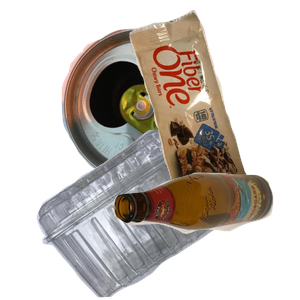glass: (111, 170, 300, 300)
metal: (59, 10, 273, 189)
plastic: (34, 130, 246, 300)
trash: (127, 10, 300, 190)
